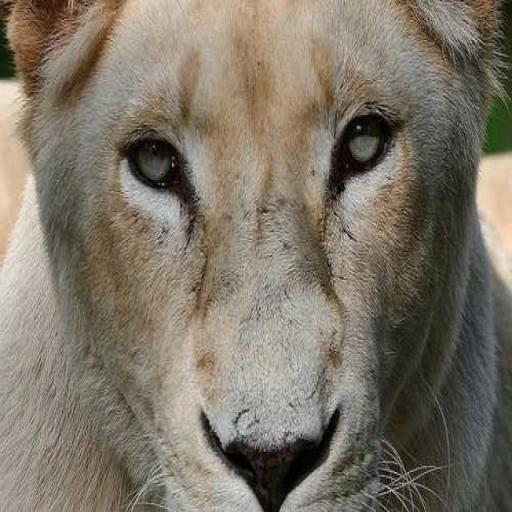Lion: (1, 0, 510, 510)
